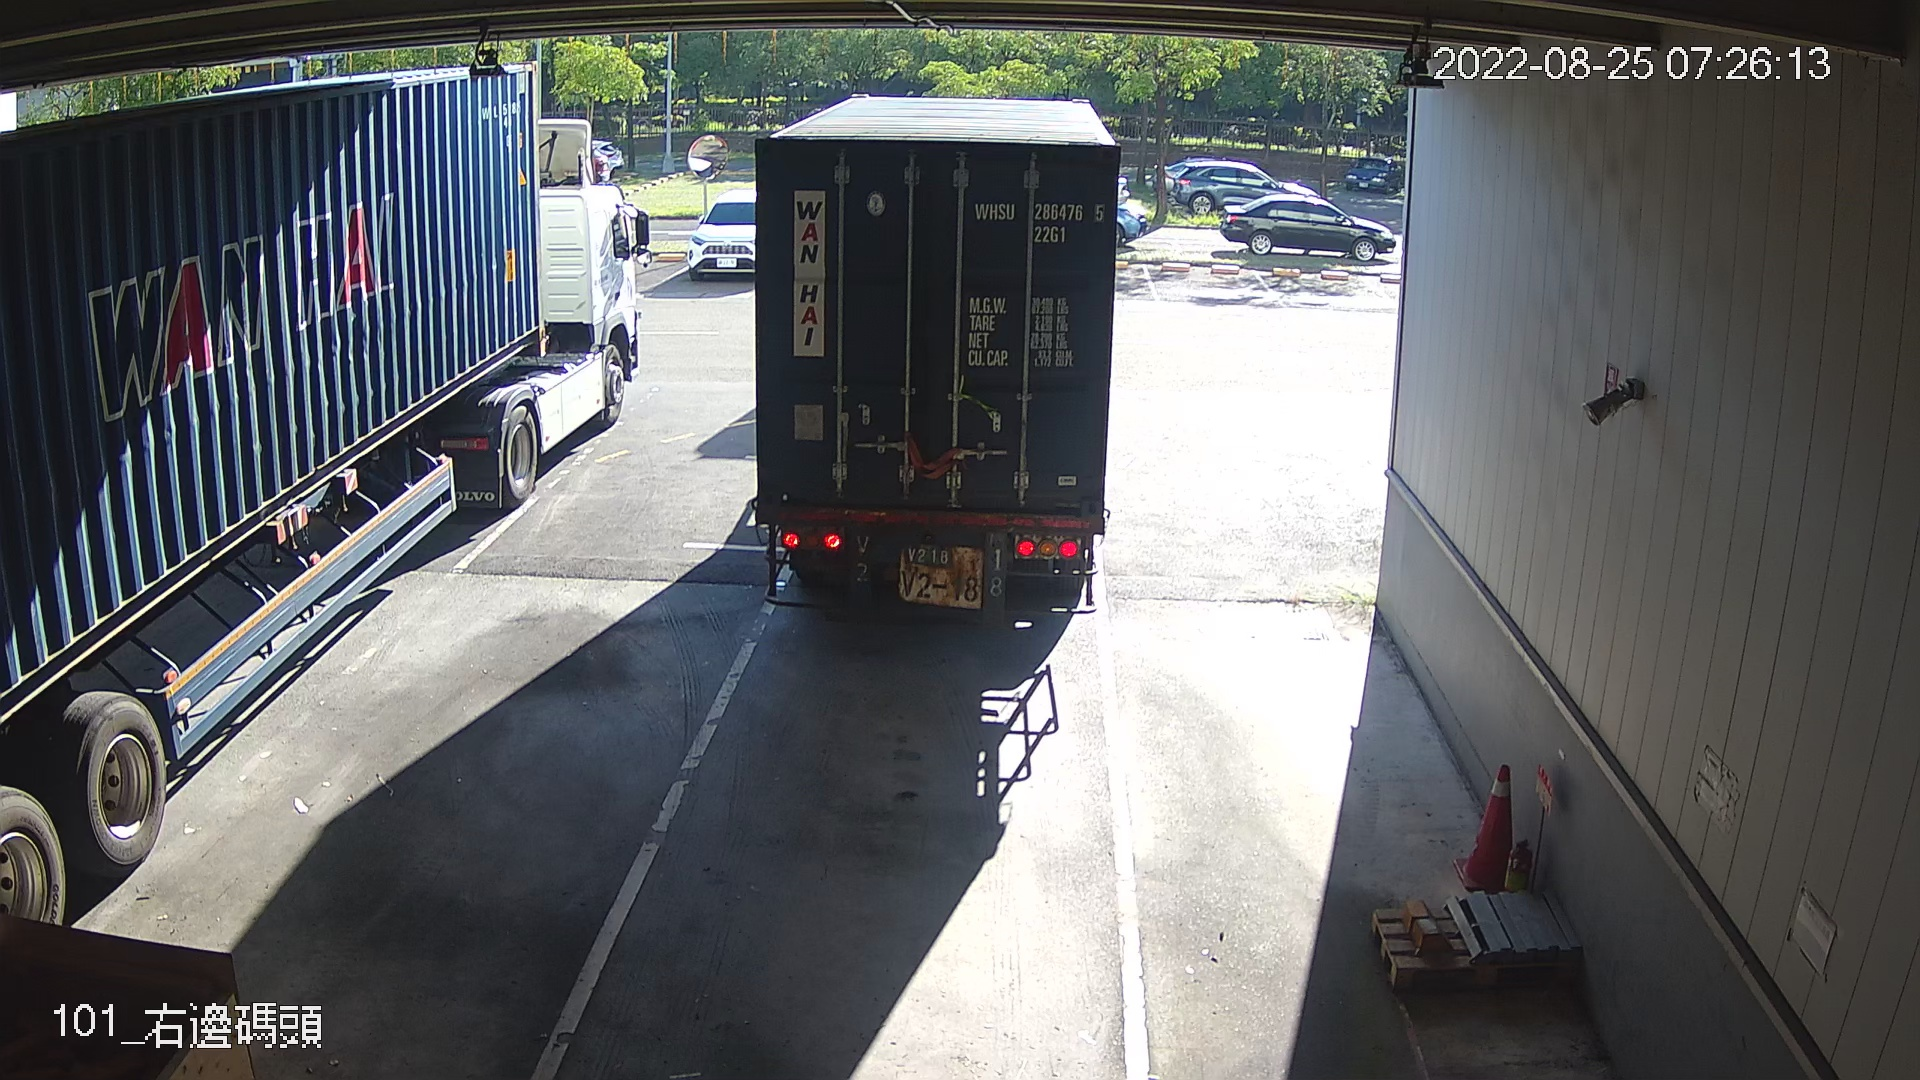container: (969, 189, 1109, 249)
